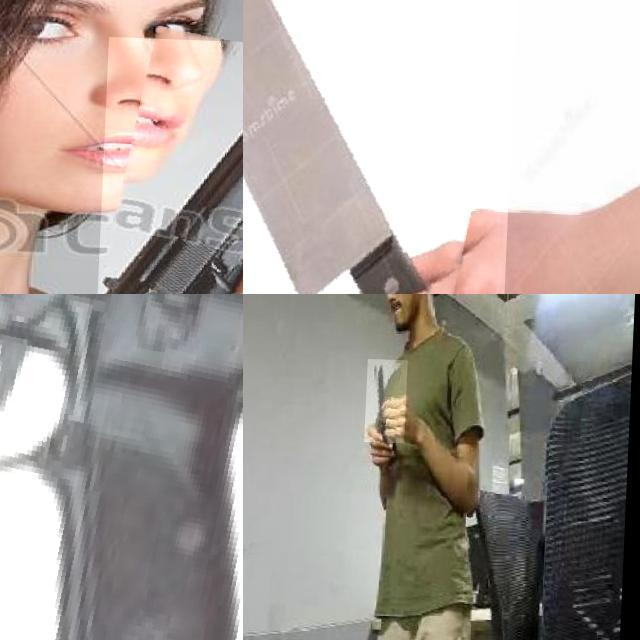-: (243, 0, 524, 294), (367, 356, 410, 440)
gun-knife-thesis - v11 Yolov5 augmented: (0, 294, 243, 640), (96, 35, 243, 294)
